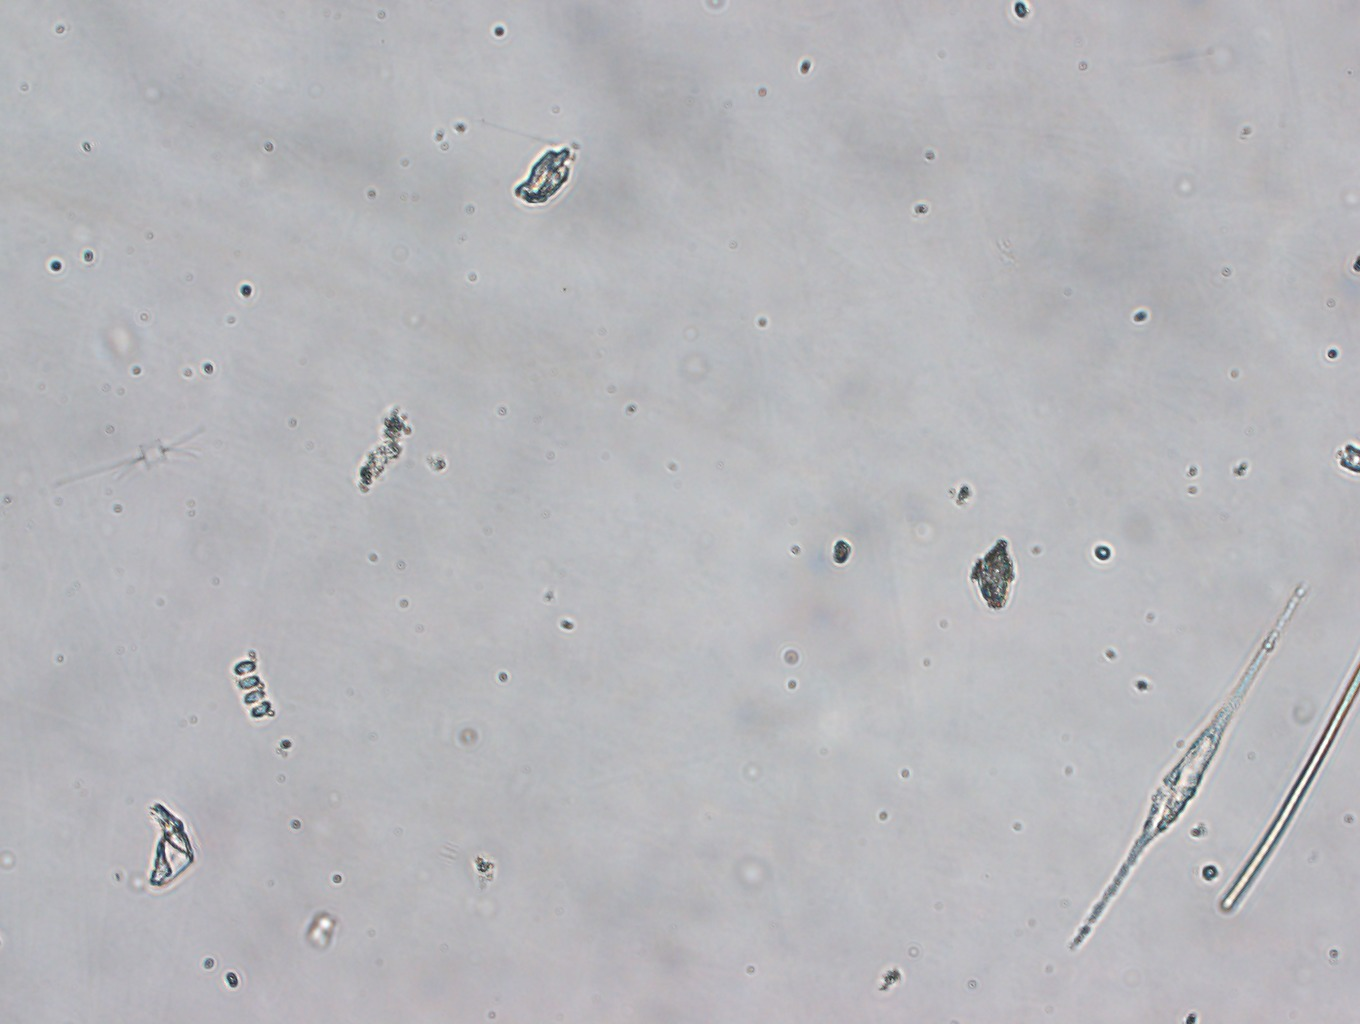ceratium fusus: (1070, 573, 1312, 949)
